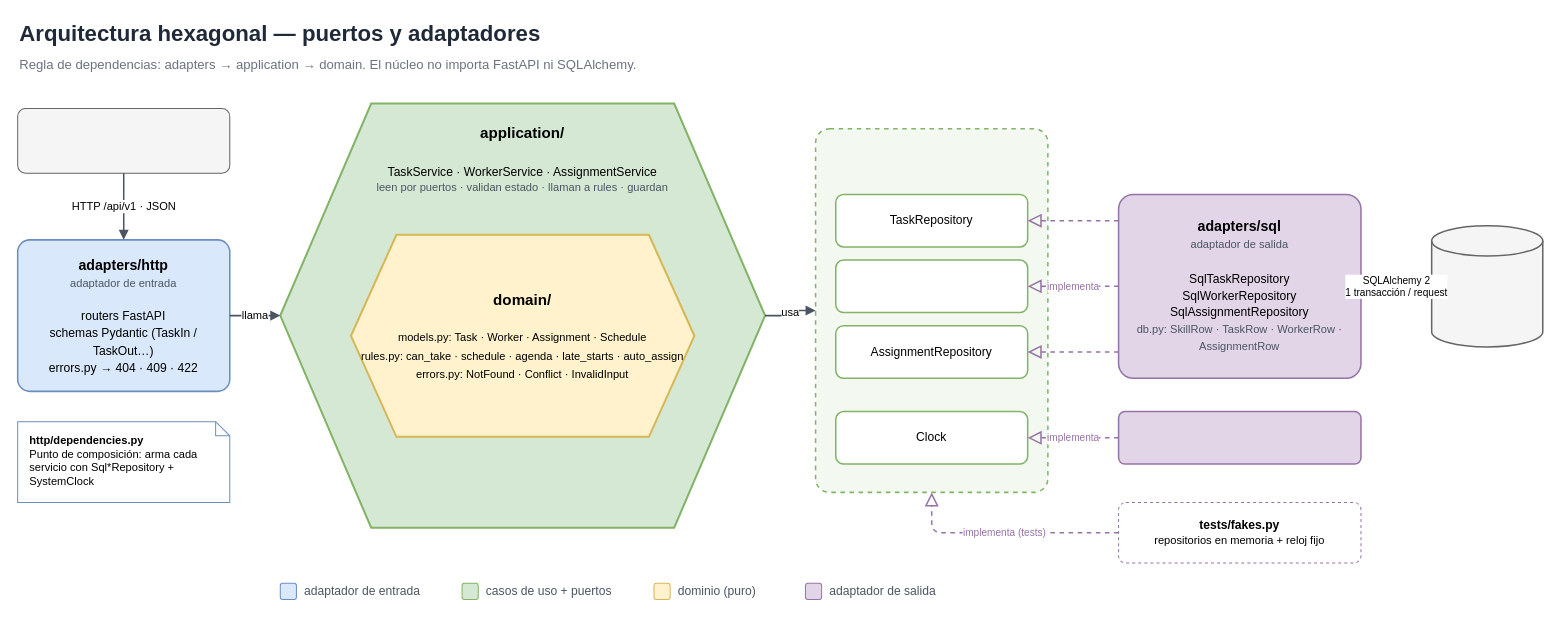
Some shapes in this 1561 by 620 pixel diagram are drawn without their labels. The box of each missing label's shape, as (x1, y1, x2, y2) in pixels:
adapters/clock.py · SystemClock: (1117, 410, 1361, 464)
application/ports.py puertos (typing.Protocol): (814, 128, 1048, 493)
Frontend Astro + React · openapi-fetch: (17, 108, 230, 173)
PostgreSQL Docker: (1430, 225, 1543, 347)
WorkerRepository: (835, 259, 1028, 313)
